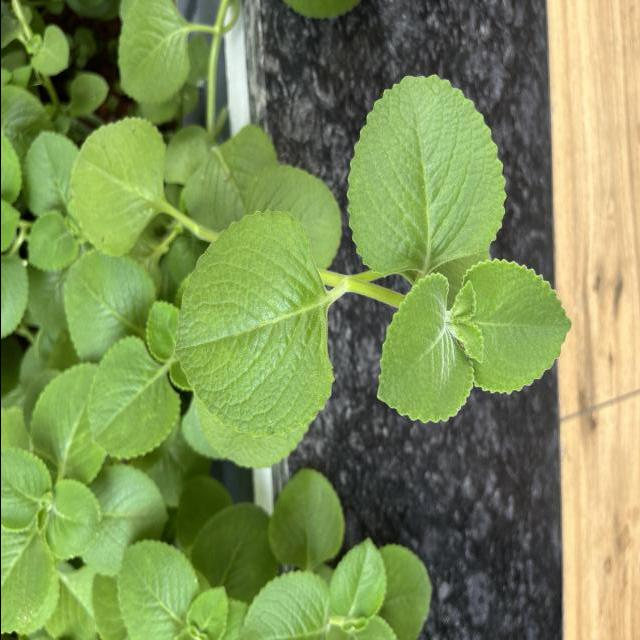Plectranthus barbatus: (172, 208, 336, 440), (344, 74, 508, 278), (459, 257, 572, 398), (374, 271, 475, 424), (66, 116, 170, 260), (86, 334, 182, 460), (78, 462, 170, 578), (63, 253, 158, 364), (28, 361, 108, 484), (115, 538, 199, 640), (115, 0, 192, 106), (266, 466, 346, 567), (328, 534, 388, 624), (42, 476, 102, 561), (0, 446, 52, 532), (26, 211, 80, 275)
